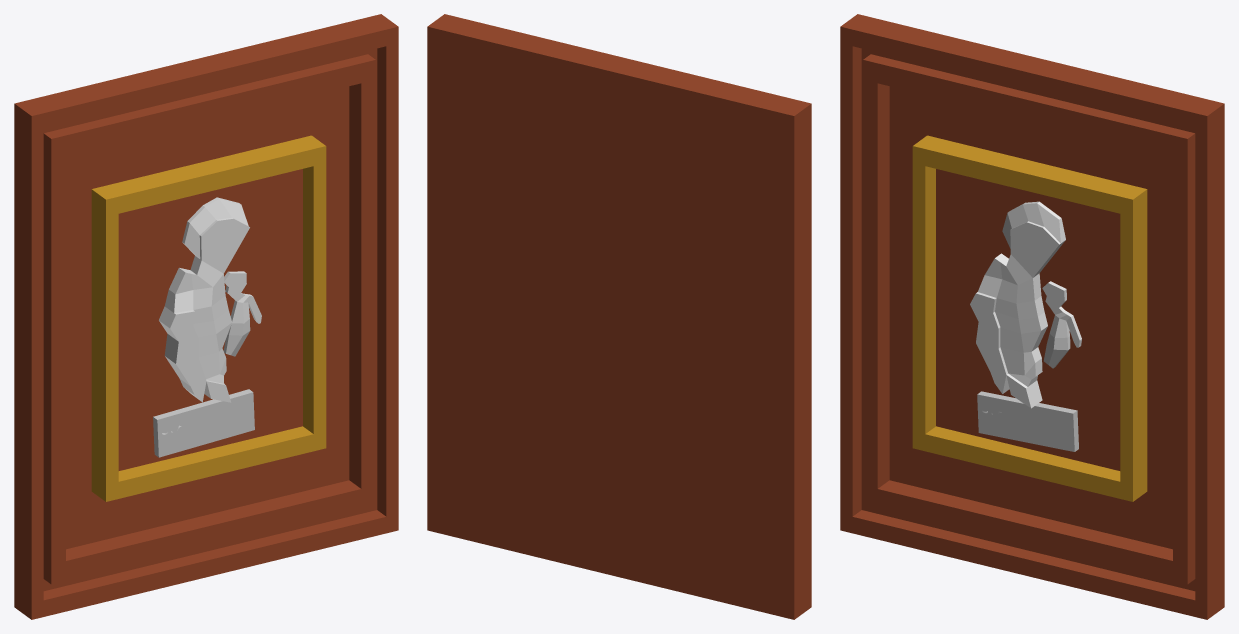
The model's file is anton.fbx.
3 renders of one model, left to right at view 1: azimuth 30°, elevation 25°; view 2: azimuth 150°, elevation 25°; view 3: azimuth 330°, elevation 25°, orthographic.
Parts seen in each view (by area): view 1: Cube, Cube.002, Plane, Cube.001; view 2: Cube; view 3: Cube, Cube.002, Plane, Cube.001.
Part boxes in pixels (x1,y1,x2,y2): Cube: (14,14,398,619); Cube.002: (91,135,326,501); Plane: (159,197,261,402); Cube.001: (153,389,254,457); Cube: (427,14,811,619); Cube: (840,14,1224,619); Cube.002: (912,135,1147,501); Plane: (970,201,1081,408); Cube.001: (977,391,1078,451).
Bounding box in the file's own units: 288 × 378 × 29.58.
